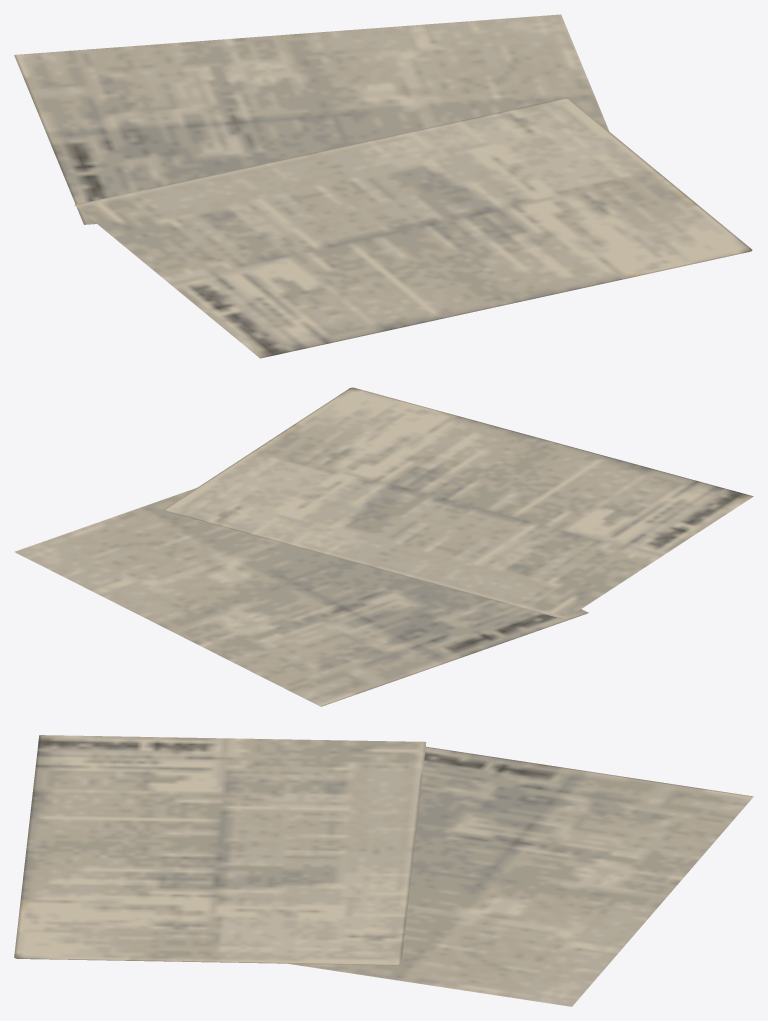
Rendered from papers.fbx.
3 views of the same model, one above another, from view 1: azimuth 30°, elevation 25°; view 2: azimuth 150°, elevation 25°; view 3: azimuth 270°, elevation 25° (orthographic). The views are drawn at different scales.
Parts seen in each view (by area): view 1: papers; view 2: papers; view 3: papers.
Part boxes in pixels (<box>): papers: <box>14,14,752,358</box>; papers: <box>14,387,753,706</box>; papers: <box>14,735,753,1006</box>.
Bounding box in the file's own units: 0.5181 × 0.5997 × 0.00328.
1 material, 1 textured.
